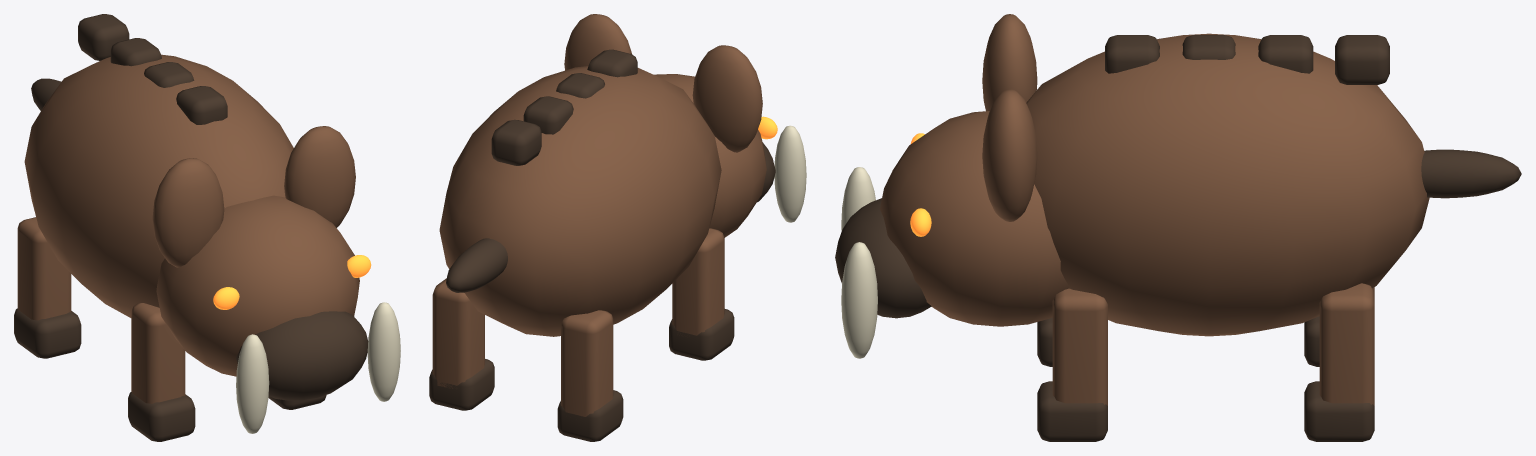
File: woodland_boar.glb
3 views of the same model, side by side, from view 1: azimuth 30°, elevation 25°; view 2: azimuth 150°, elevation 25°; view 3: azimuth 270°, elevation 25° (orthographic). The views are drawn at different scales.
Visible parts, largest first — view 1: boar_body, boar_head, boar_snout, ear, ear.001, boar_leg.001, boar_leg, tusk.001, tusk, hoof, hoof.001, bristle (+7 smaller); view 2: boar_body, ear, boar_leg, boar_leg.002, boar_head, boar_leg.001, tusk, ear.001, tail, hoof, hoof.001, bristle (+5 smaller); view 3: boar_body, boar_head, boar_leg.002, boar_leg.003, ear.001, boar_snout, tail, ear, tusk.001, hoof.003, hoof.002, bristle (+6 smaller).
Boxes of the visible parts, x1,y1,x2,y2 form: boar_body: [24, 54, 293, 317]; boar_head: [156, 195, 359, 376]; boar_snout: [236, 311, 368, 400]; ear: [152, 158, 224, 267]; ear.001: [284, 126, 355, 227]; boar_leg.001: [131, 303, 185, 403]; boar_leg: [17, 217, 71, 320]; tusk.001: [367, 302, 400, 401]; tusk: [236, 334, 269, 433]; hoof: [14, 308, 81, 358]; hoof.001: [128, 392, 195, 441]; bristle: [78, 14, 129, 60]; boar_body: [439, 66, 721, 336]; ear: [692, 45, 762, 152]; boar_leg: [561, 310, 613, 416]; boar_leg.002: [432, 278, 484, 388]; boar_head: [654, 74, 766, 237]; boar_leg.001: [672, 228, 724, 335]; tusk: [774, 125, 806, 222]; ear.001: [564, 14, 632, 70]; tail: [446, 238, 507, 292]; hoof: [557, 390, 623, 441]; hoof.001: [669, 309, 734, 360]; bristle: [491, 119, 541, 165]; boar_body: [1026, 33, 1429, 336]; boar_head: [880, 111, 1069, 326]; boar_leg.002: [1319, 283, 1374, 405]; boar_leg.003: [1052, 288, 1107, 405]; ear.001: [982, 89, 1037, 221]; boar_snout: [835, 198, 931, 318]; tail: [1421, 149, 1521, 198]; ear: [982, 14, 1037, 111]; tusk.001: [841, 242, 877, 358]; hoof.003: [1037, 381, 1107, 441]; hoof.002: [1304, 381, 1374, 441]; bristle: [1335, 35, 1389, 84].
Bounding box in the file's own units: 0.96 × 1.28 × 2.24.
